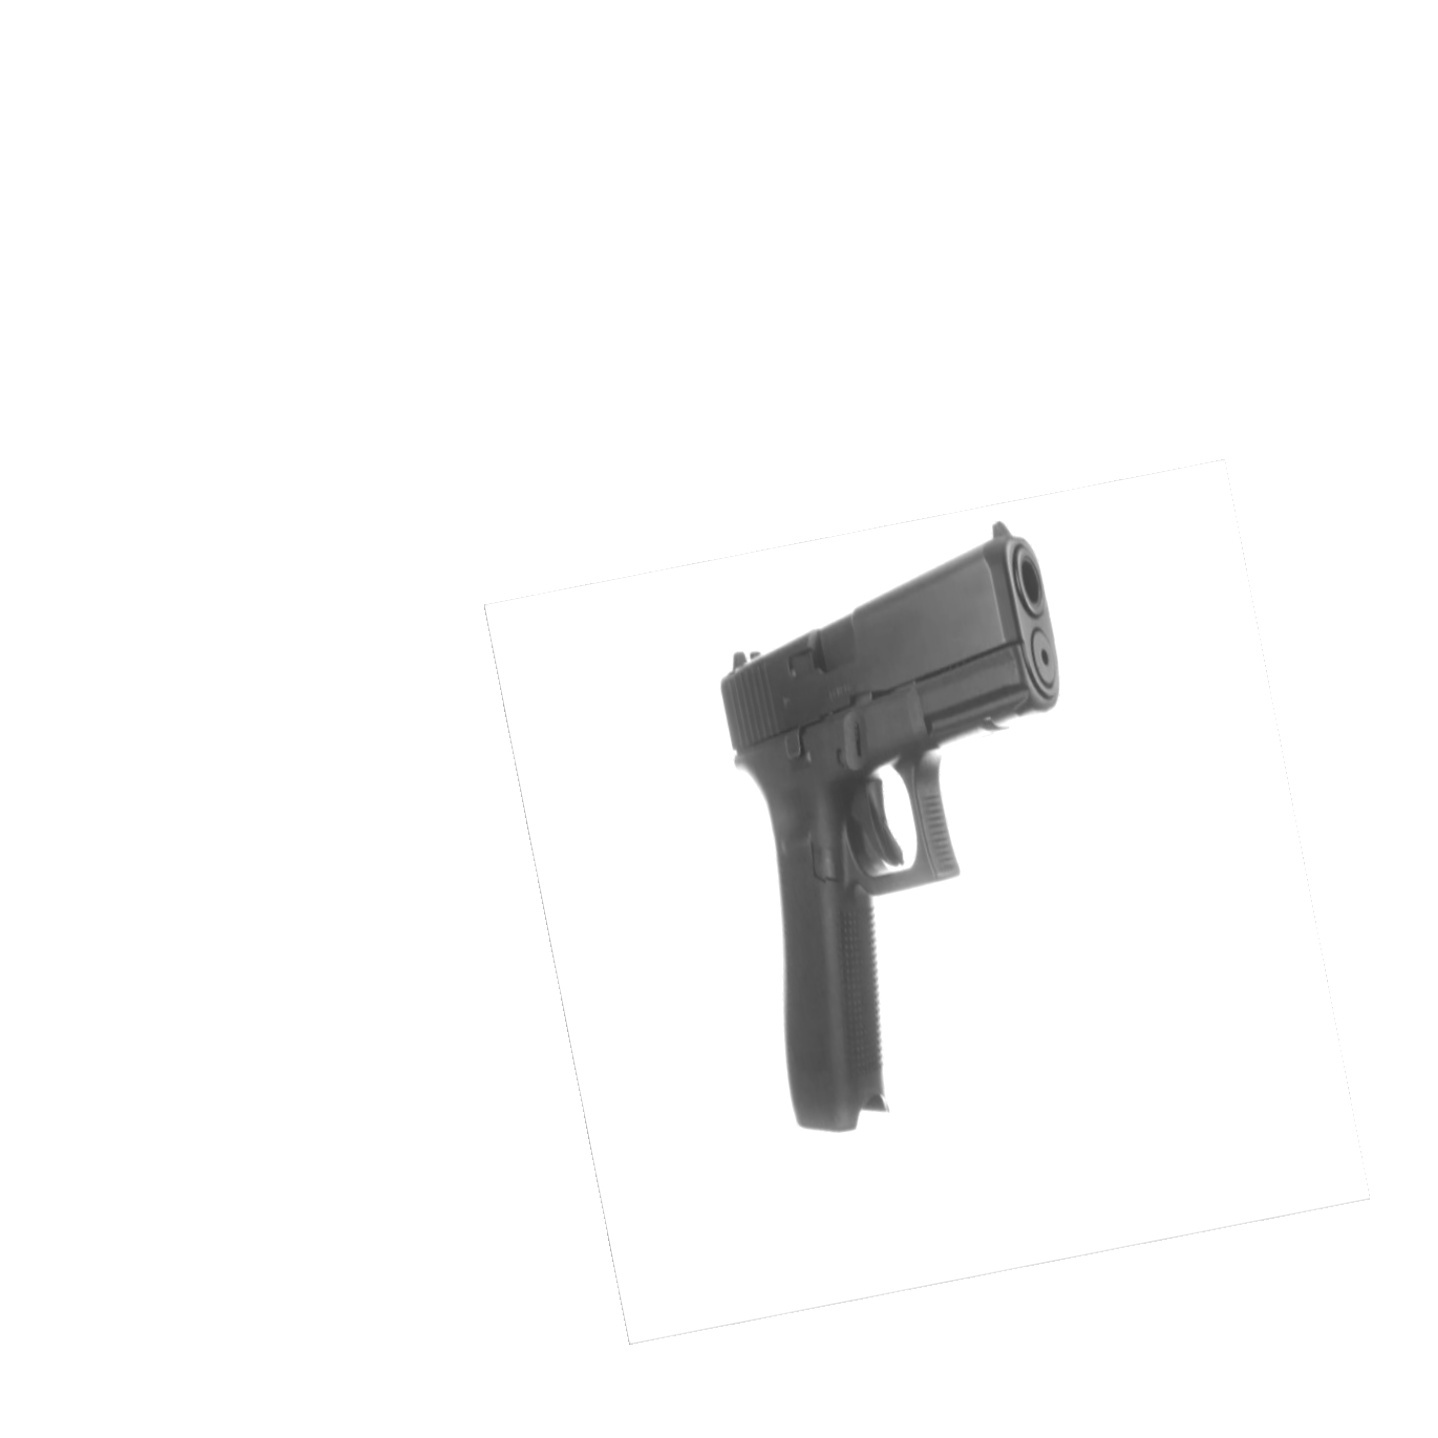gun: (715, 514, 1067, 1147)
